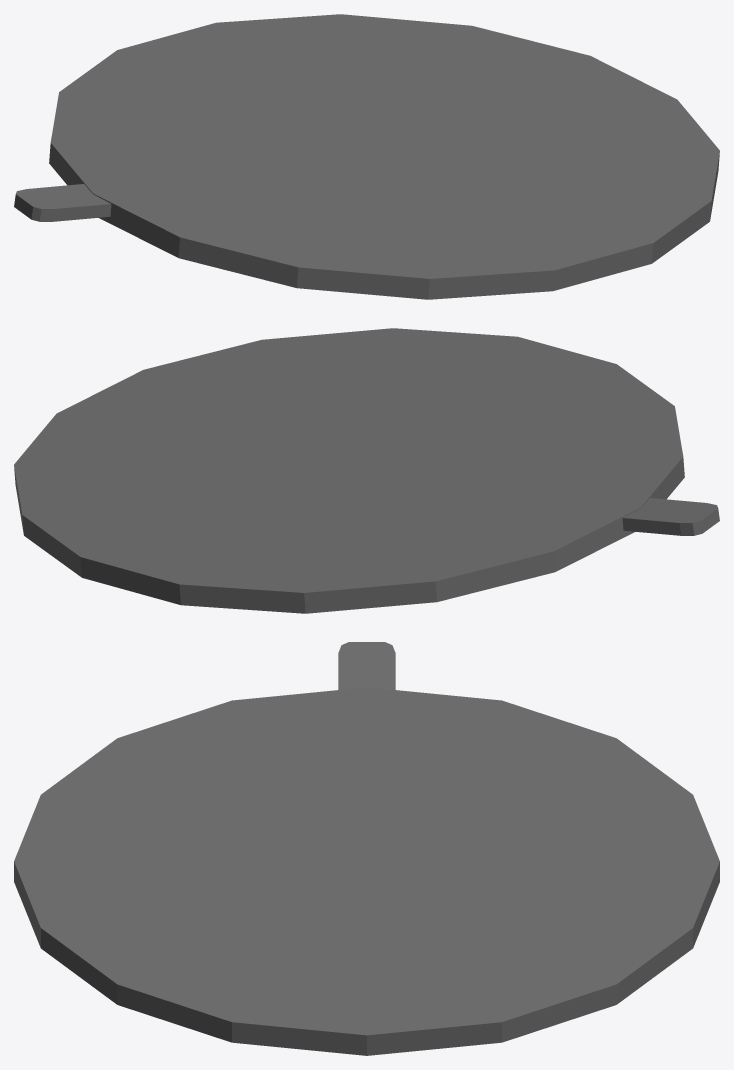
File: Kettle1_C1_03.fbx
3 views of the same model, one above another, from view 1: azimuth 30°, elevation 25°; view 2: azimuth 150°, elevation 25°; view 3: azimuth 270°, elevation 25° (orthographic). The views are drawn at different scales.
Parts seen in each view (by area): view 1: Kettle1_C1_03; view 2: Kettle1_C1_03; view 3: Kettle1_C1_03.
Part boxes in pixels (x1,y1,x2,y2): Kettle1_C1_03: (14, 14, 719, 299); Kettle1_C1_03: (14, 328, 719, 613); Kettle1_C1_03: (14, 642, 719, 1055).
Bounding box in the file's own units: 26.47 × 3.05 × 23.7.
